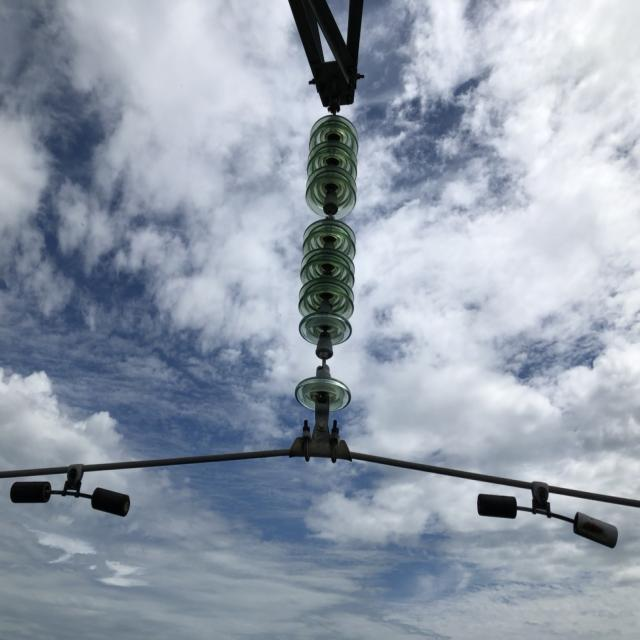正常绝缘子: (292, 87, 362, 450)
绝缘子破损: (315, 341, 334, 374), (322, 203, 337, 223)
